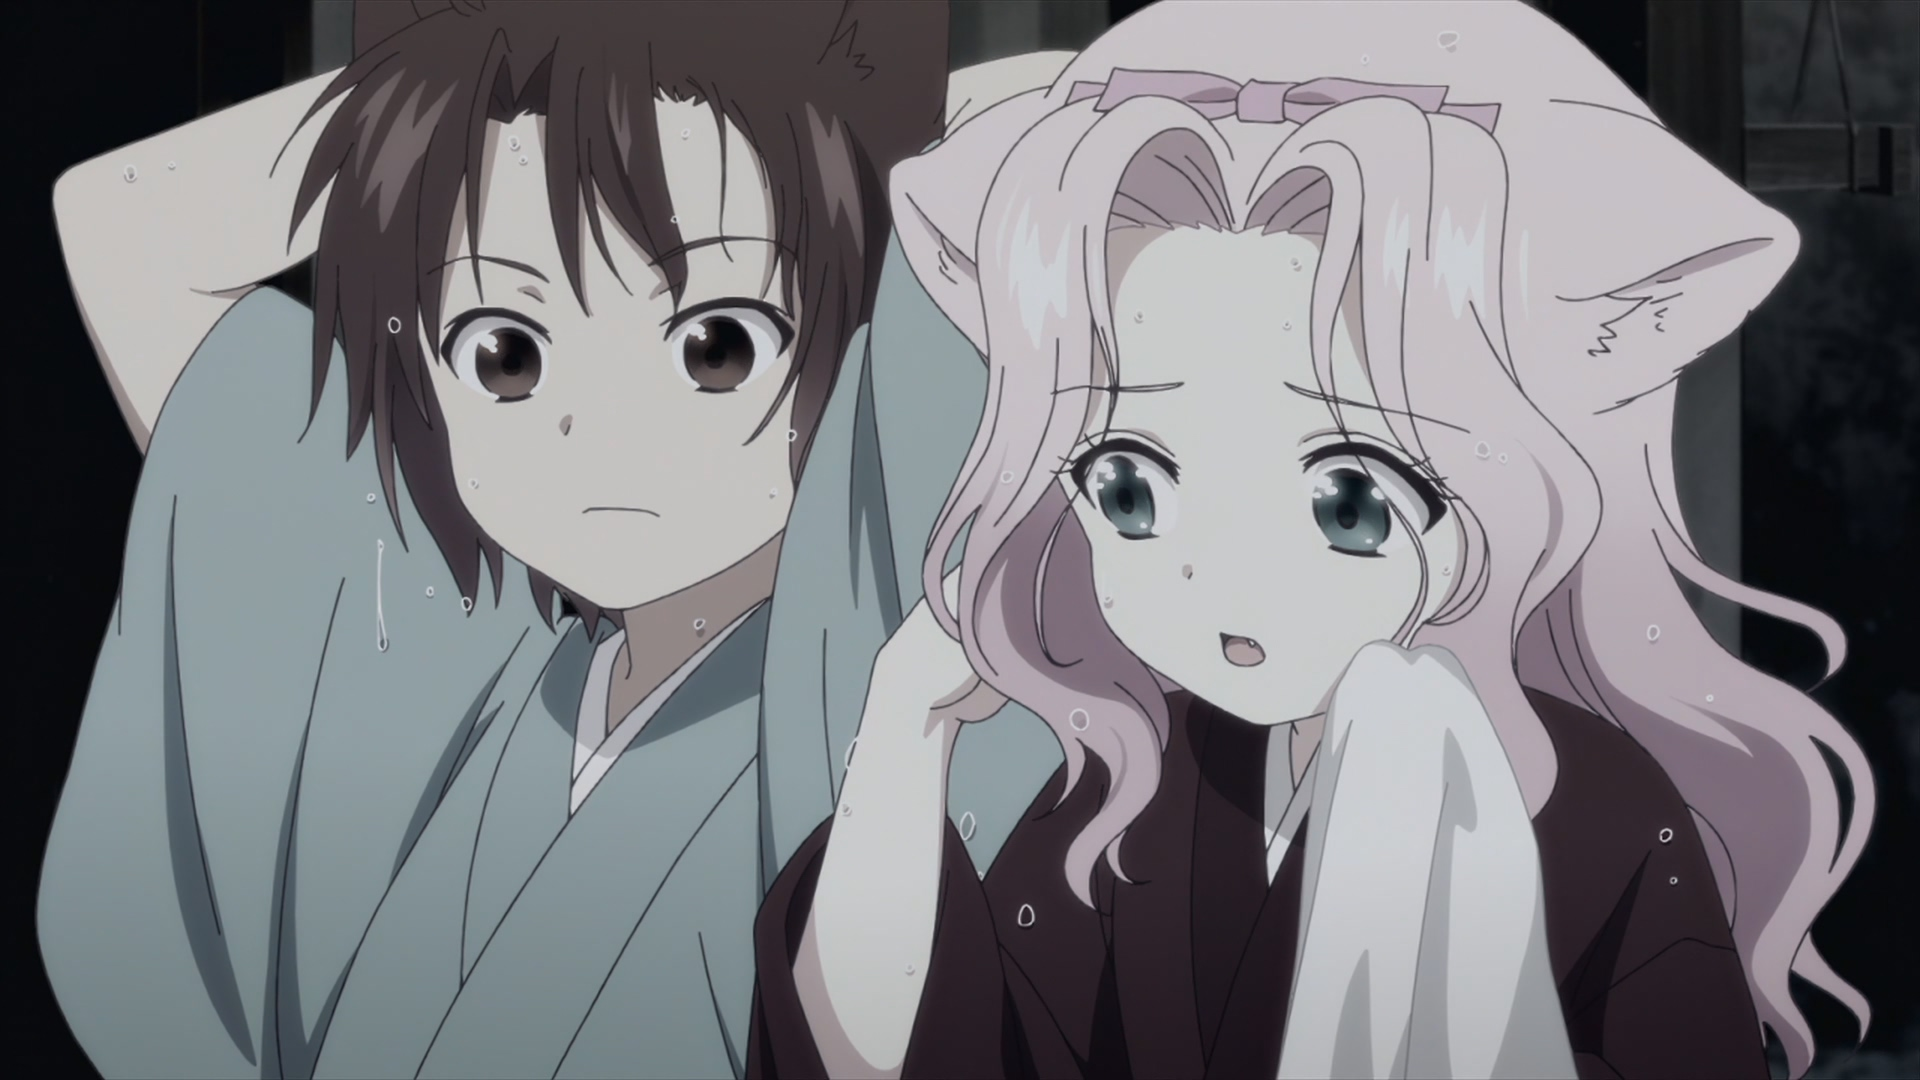枣: (38, 1, 1065, 1080)
莲: (746, 1, 1873, 1080)
